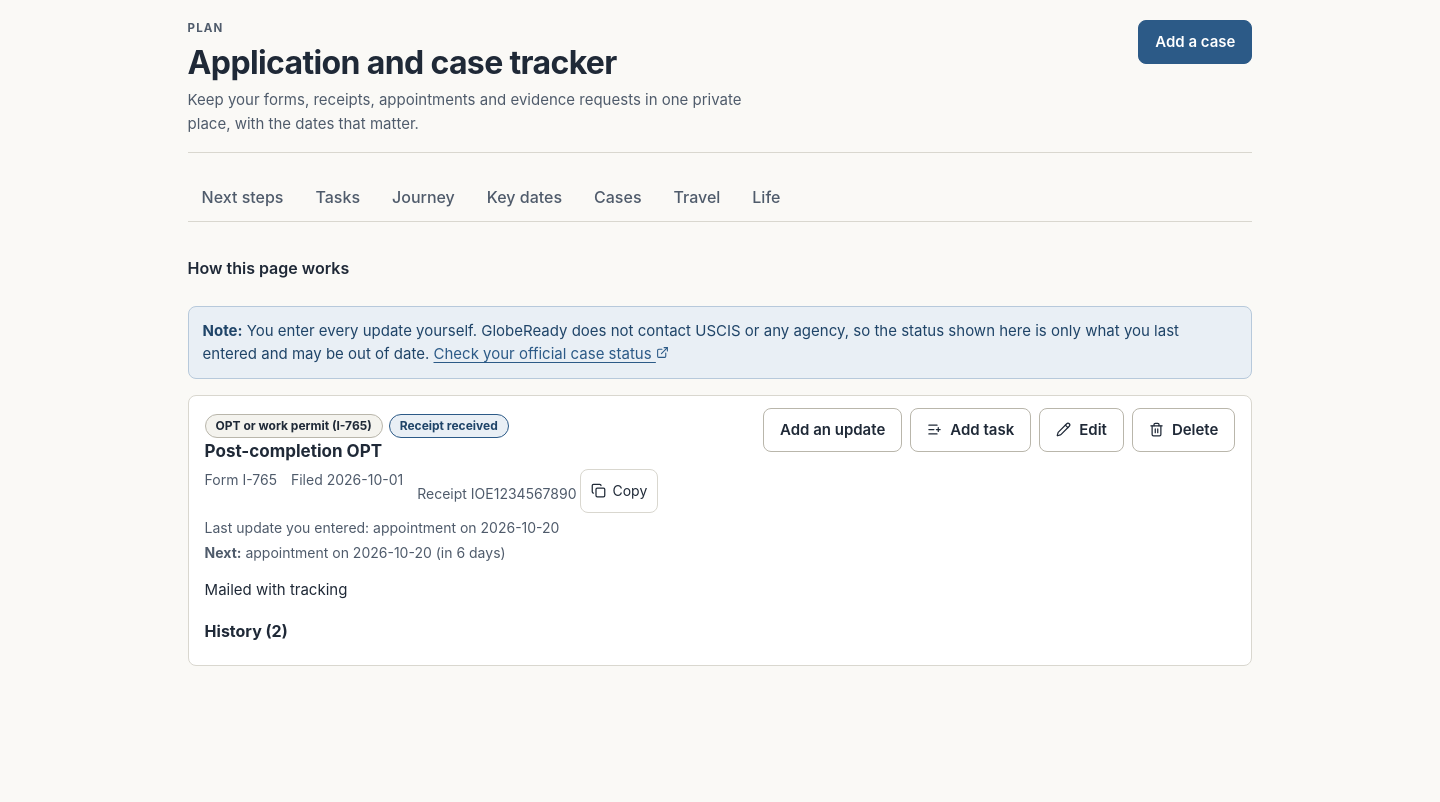
Test: CasesPage › adds a manual status update, defaulting to today
Click the button "Add an update": (833, 430) [763, 408, 902, 452]
(page scrolled)
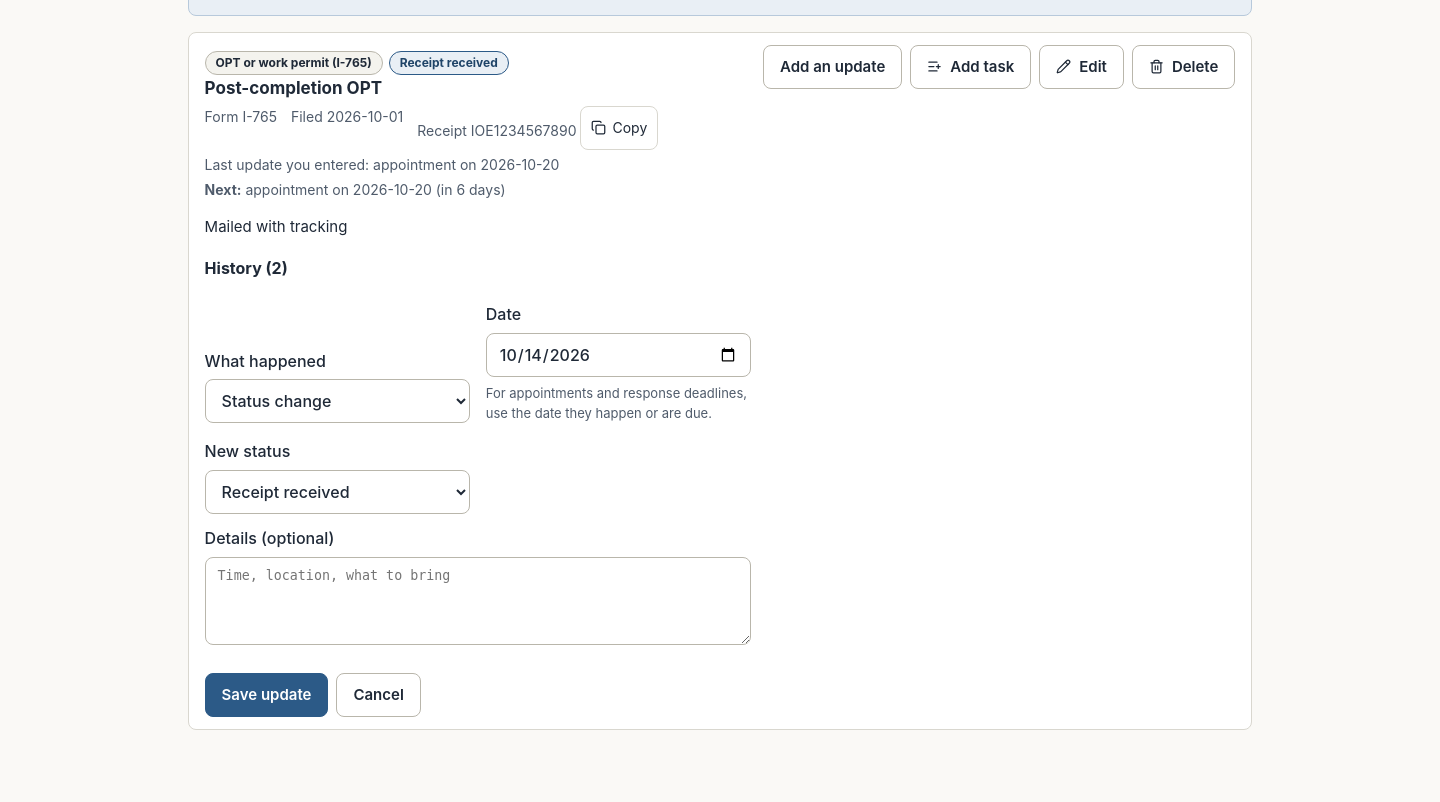
Expected: the date field labelled "Date" holds "2026-10-14", [486, 333, 751, 377]
Select "Request for evidence received" in the dropdown labelled "New status": (337, 492) [205, 470, 470, 514]
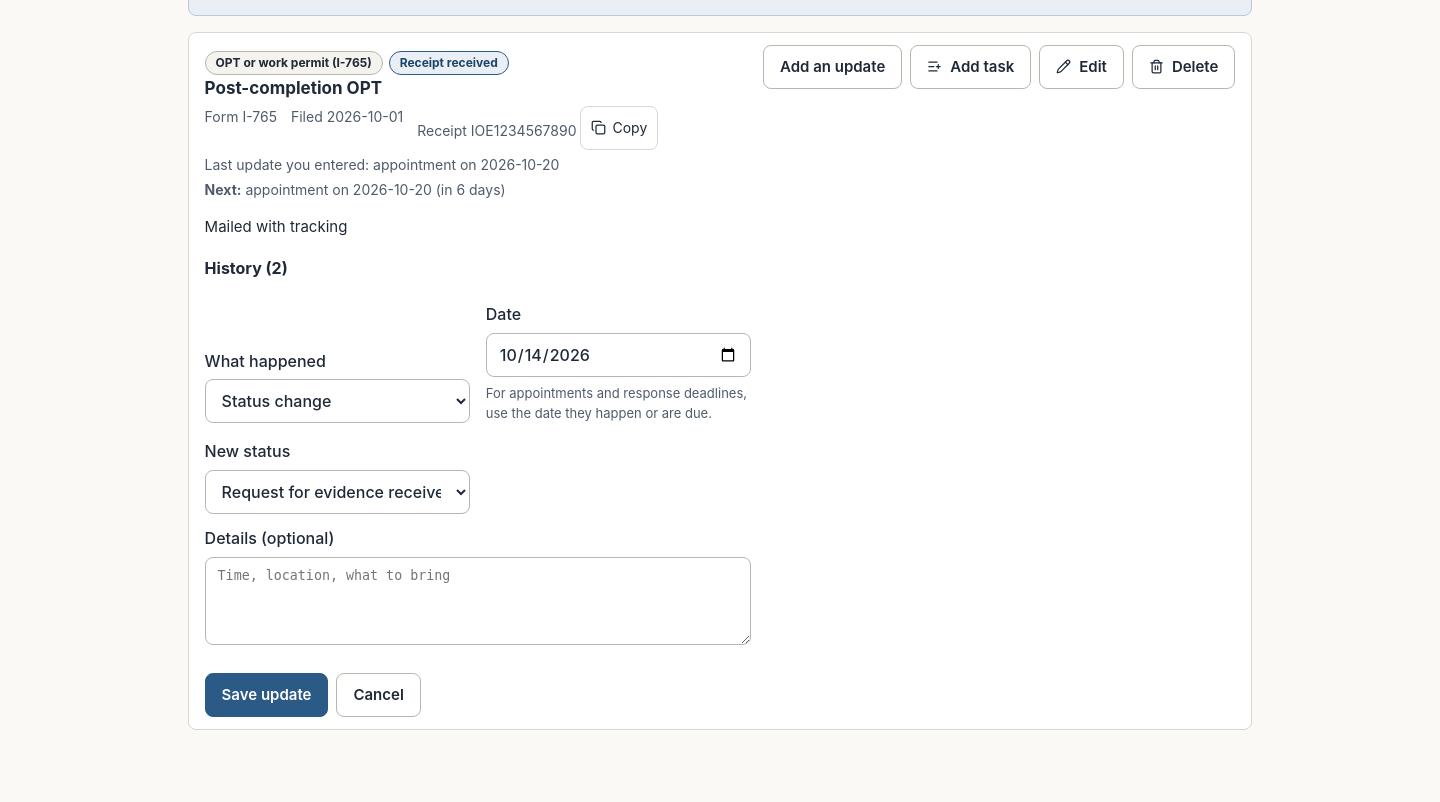
Click the button "Save update": (266, 695) [205, 673, 328, 717]
(page scrolled)
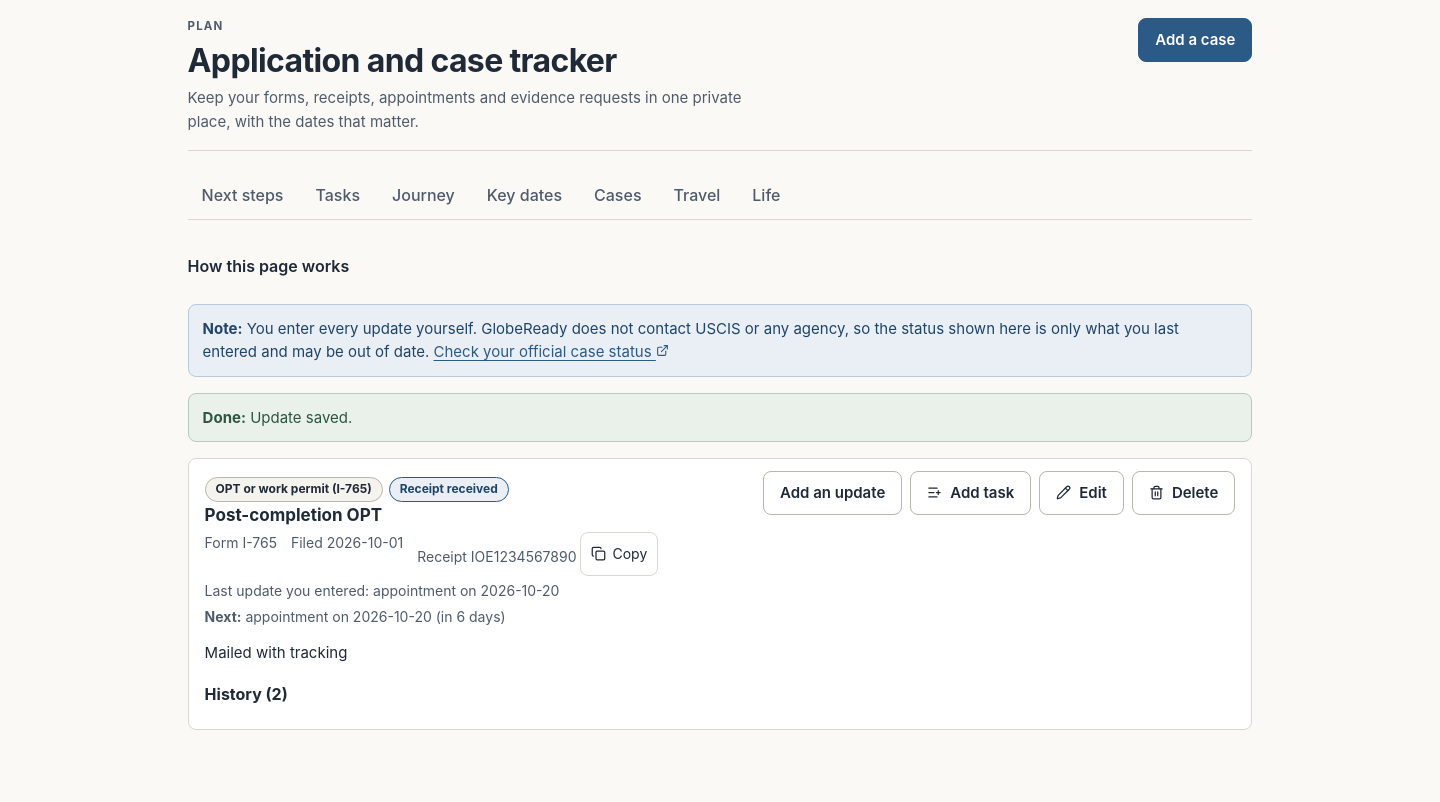
Expected: the text "Update saved." is shown, [250, 408, 352, 427]
